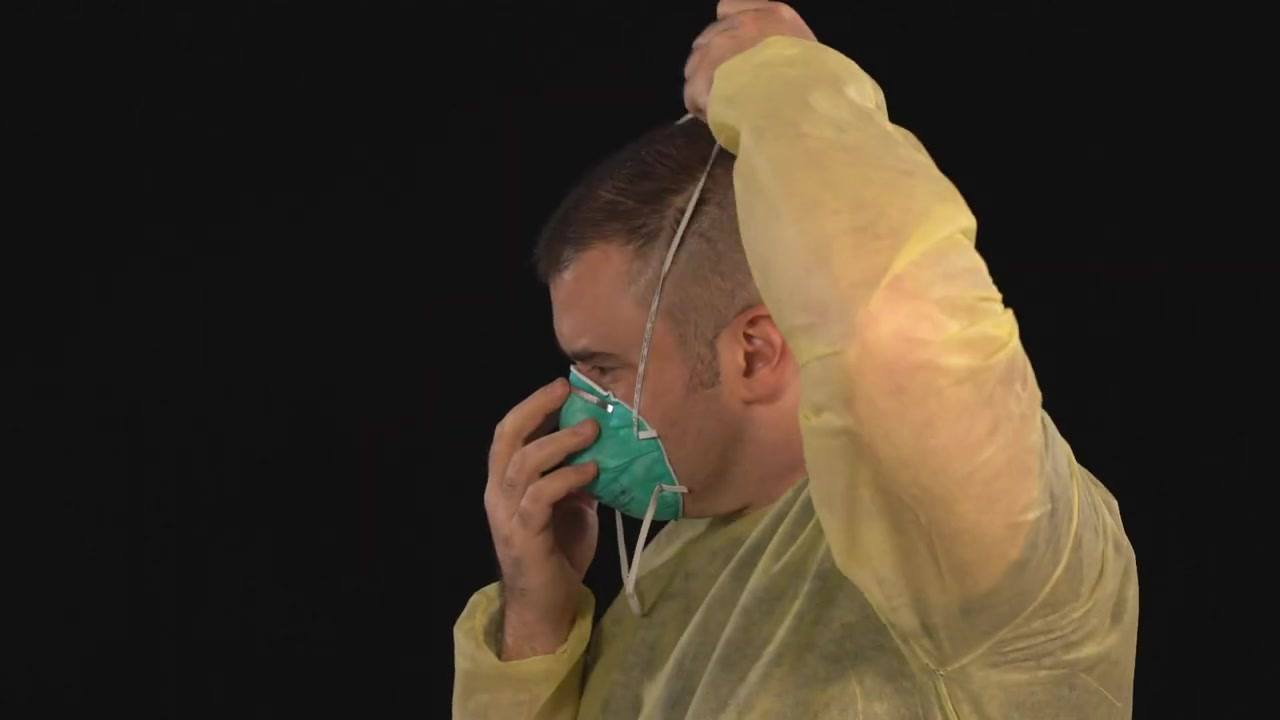Coverall: (416, 105, 1098, 720)
with_mask: (529, 348, 690, 533)
